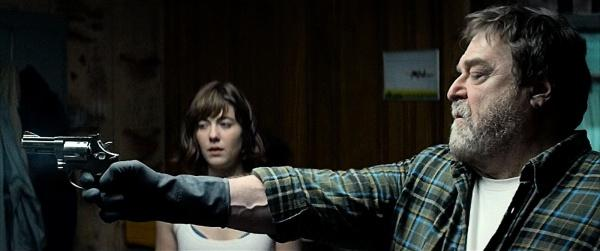Gun: (22, 127, 120, 191)
